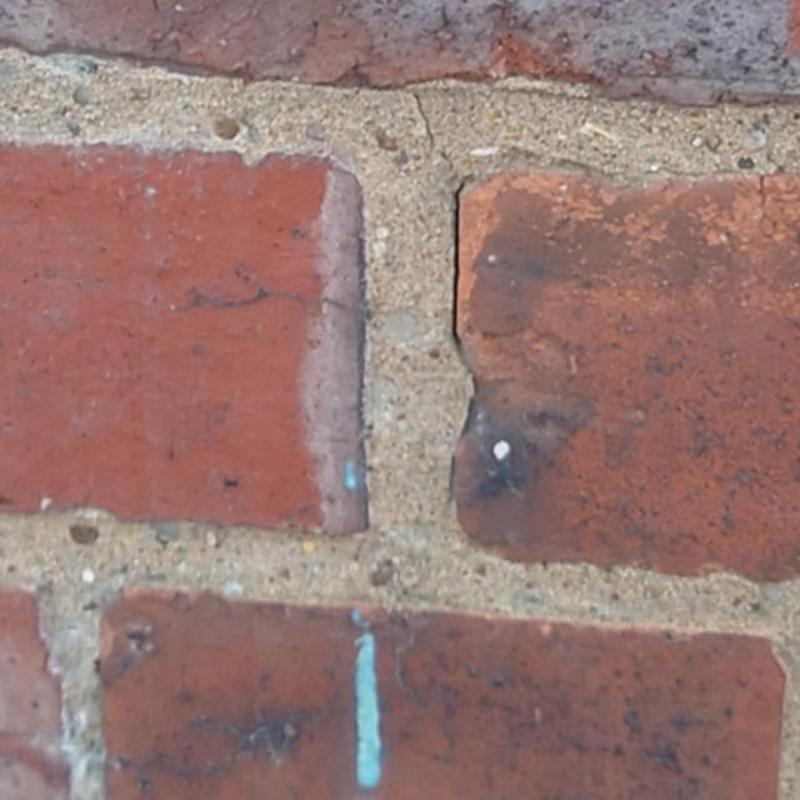crack: (452, 172, 473, 353), (412, 94, 434, 152)
